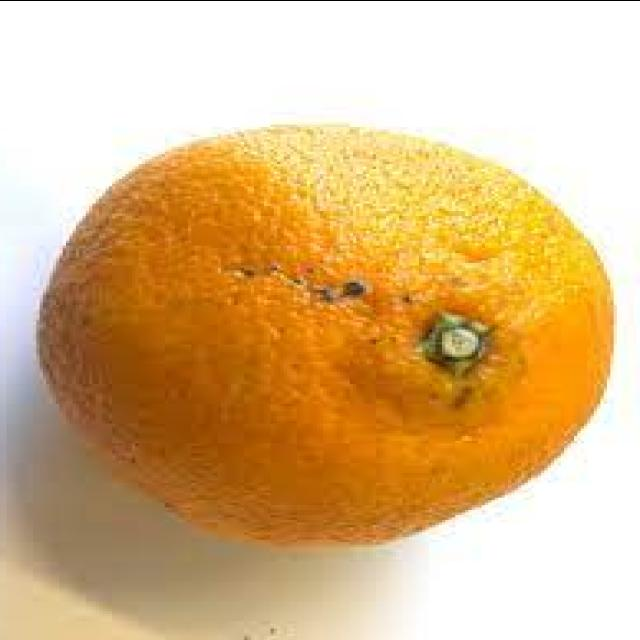orange: (0, 78, 627, 554)
